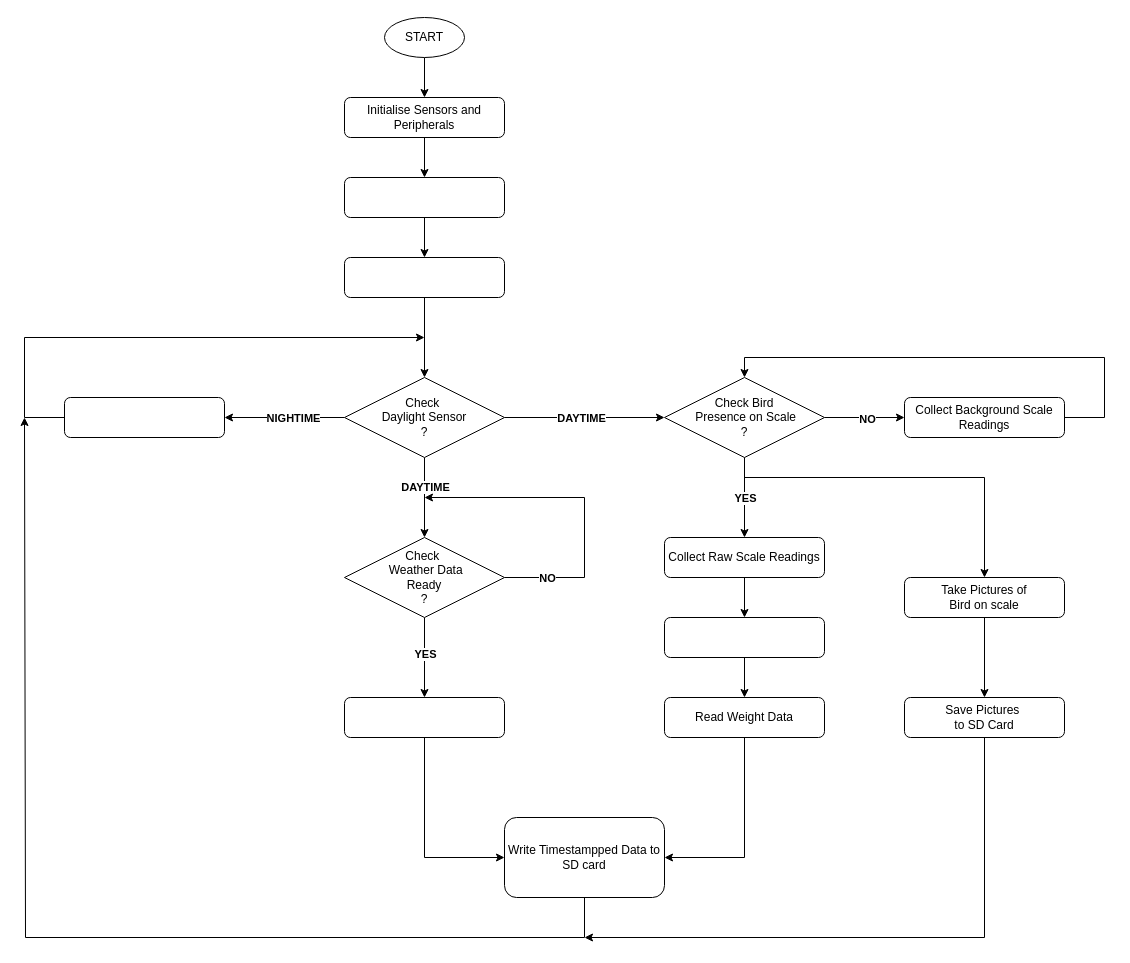
The diagram is 1130 pixels wide and 963 high, and some of its shapes have lost their labels. Here are the shapes that lost their labels. From the top down, the centre of each, then its label:
(x=424, y=197): Set up Files
(x=424, y=277): Set up Sleep Mode
(x=144, y=417): Enter Deep Sleep Mode For 1 hour
(x=744, y=637): Dynamic Weight Analysis
(x=424, y=717): Read Temperature Read Humidity
